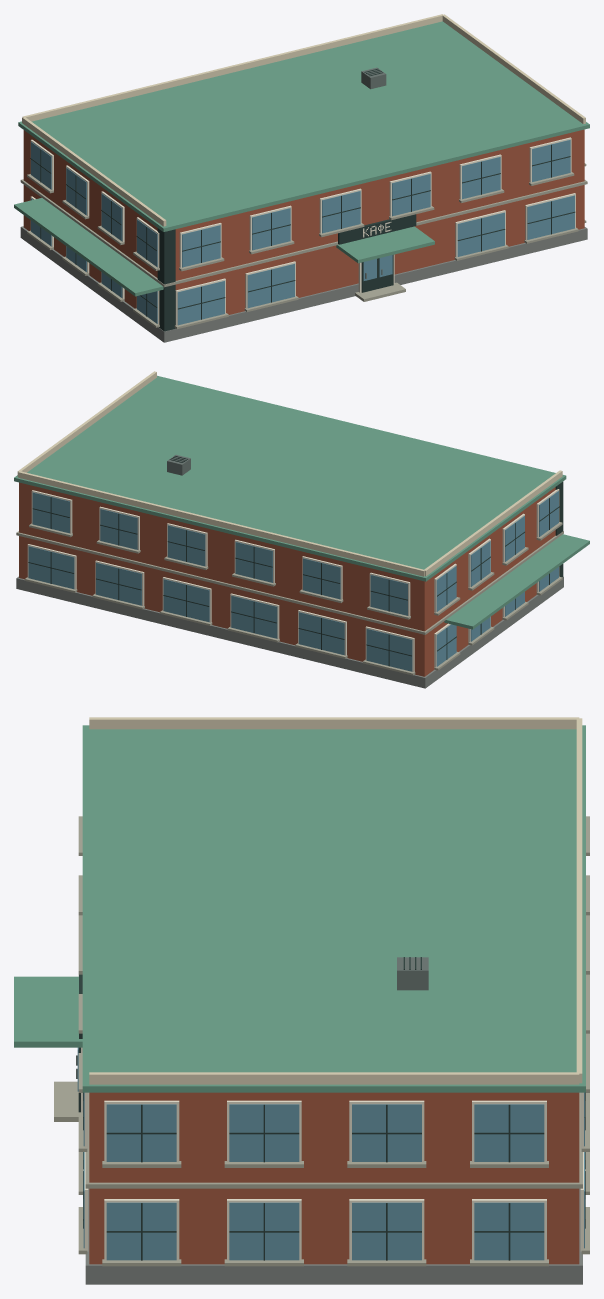
The model's file is CornerCafe.obj.
3 renders of one model, top to bottom at view 1: azimuth 30°, elevation 25°; view 2: azimuth 150°, elevation 25°; view 3: azimuth 270°, elevation 25°, orthographic. The views are drawn at different scales.
Parts seen in each view (by area): view 1: CornerCafe; view 2: CornerCafe; view 3: CornerCafe.
Boxes of the visible parts, x1,y1,x2,y2 form: CornerCafe: [14, 14, 589, 342]; CornerCafe: [14, 371, 589, 688]; CornerCafe: [14, 717, 589, 1284].
Bounding box in the file's own units: 26 × 6.97 × 16.45.
1 material, 1 textured.
